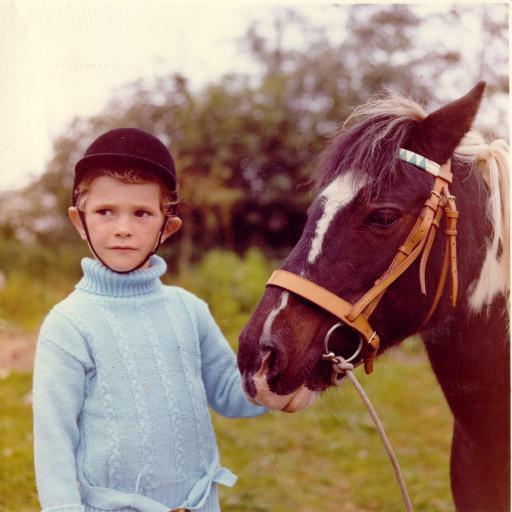horse: (236, 77, 512, 512)
